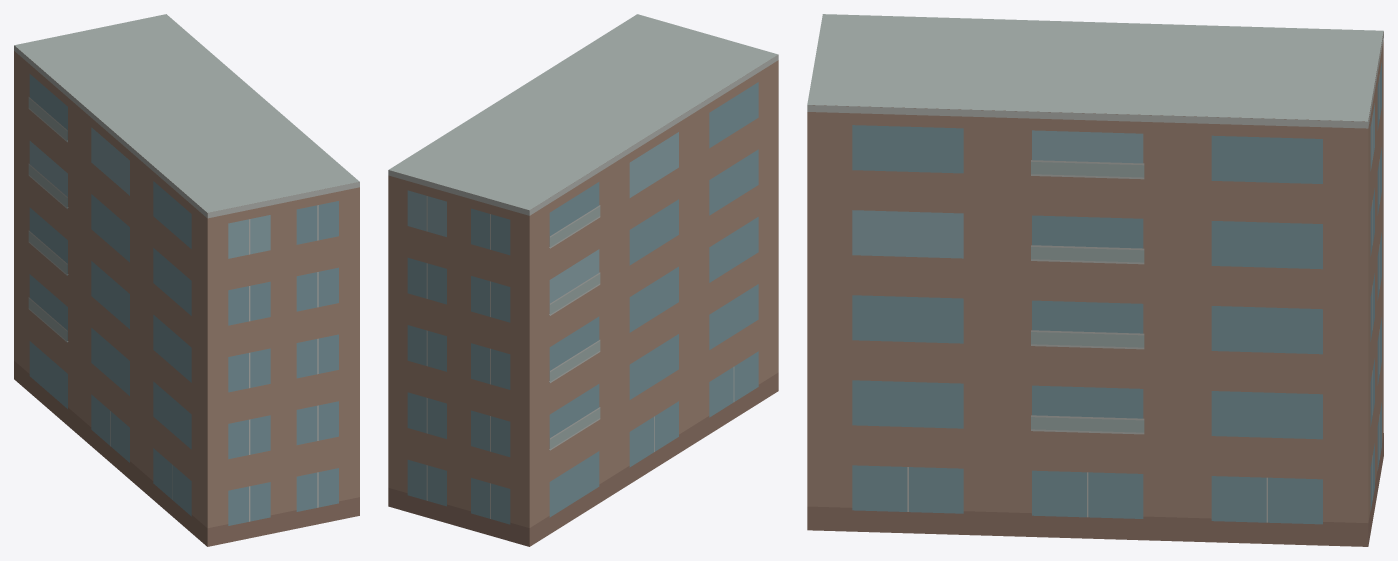
The model's file is survey-upis-32988472.glb.
The picture shows the model from 3 angles, left to right: view 1: azimuth 30°, elevation 25°; view 2: azimuth 150°, elevation 25°; view 3: azimuth 270°, elevation 25°; orthographic projection. The views are drawn at different scales.
Visible parts, largest first — view 1: survey-upis-32988472.tmp; view 2: survey-upis-32988472.tmp; view 3: survey-upis-32988472.tmp.
Boxes of the visible parts, left/top/right/bottom form: survey-upis-32988472.tmp: left=14, top=14, right=359, bottom=546; survey-upis-32988472.tmp: left=388, top=14, right=778, bottom=546; survey-upis-32988472.tmp: left=807, top=14, right=1383, bottom=546.
Size of the model in its own units: 8.03 by 14.8 by 18.19.
